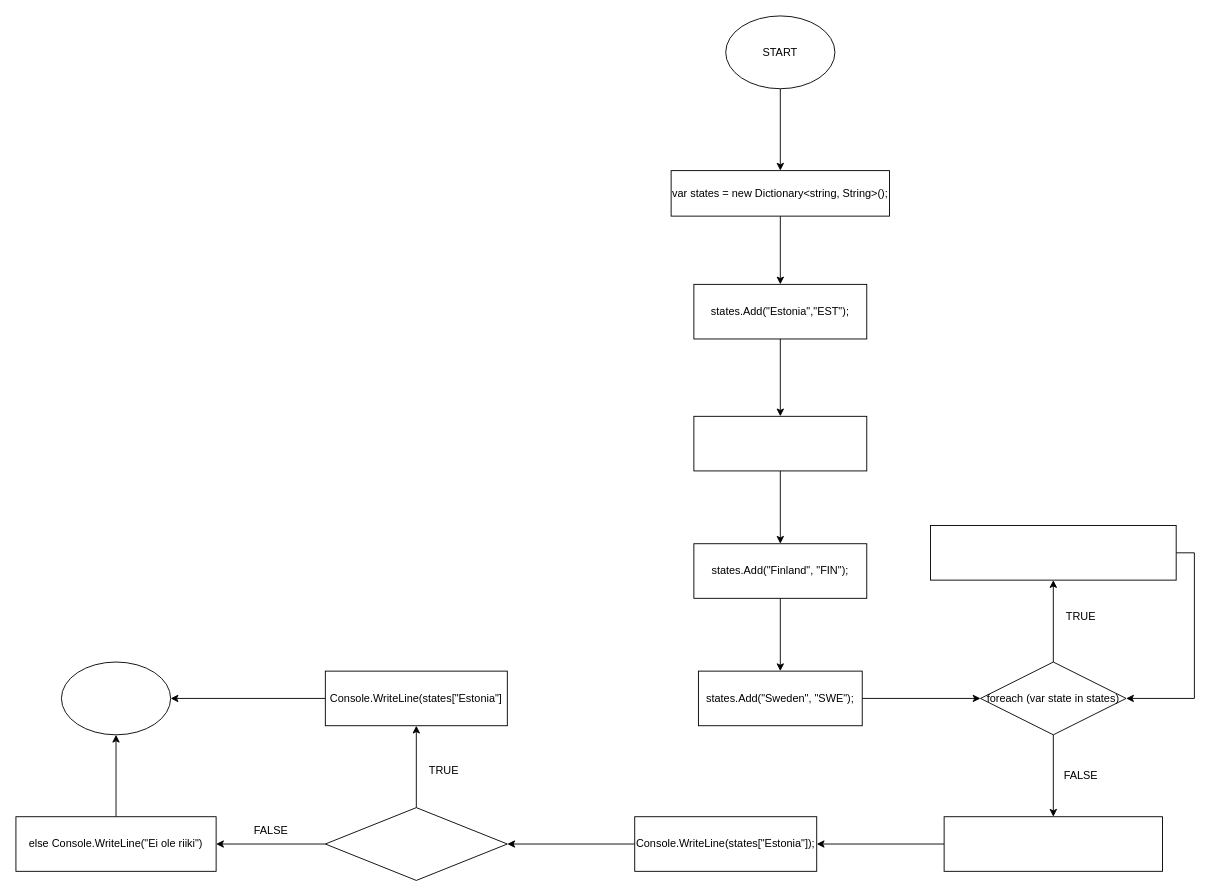
Some shapes in this 1218 by 896 pixel diagram are drawn without their labels. The centre of each missing label's shape, as x and y in pixels:
Console.WriteLine($"{state.Key} - {state.Value}");: the point at 1053,552
Console.WriteLine(states["Latvia"]);: the point at 1053,843
END: the point at 116,698
if (states.ContainsKey("Estonia")): the point at 415,843
states.Add("Latvia", "LAT");: the point at 780,443
